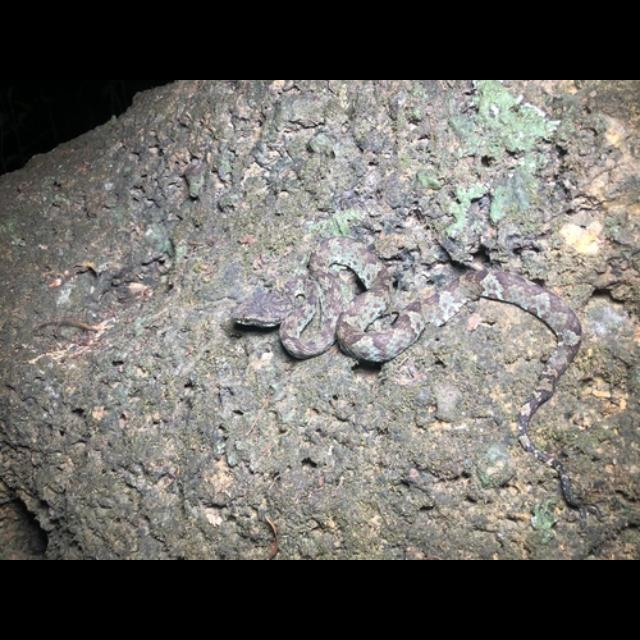snake: (222, 234, 582, 442)
